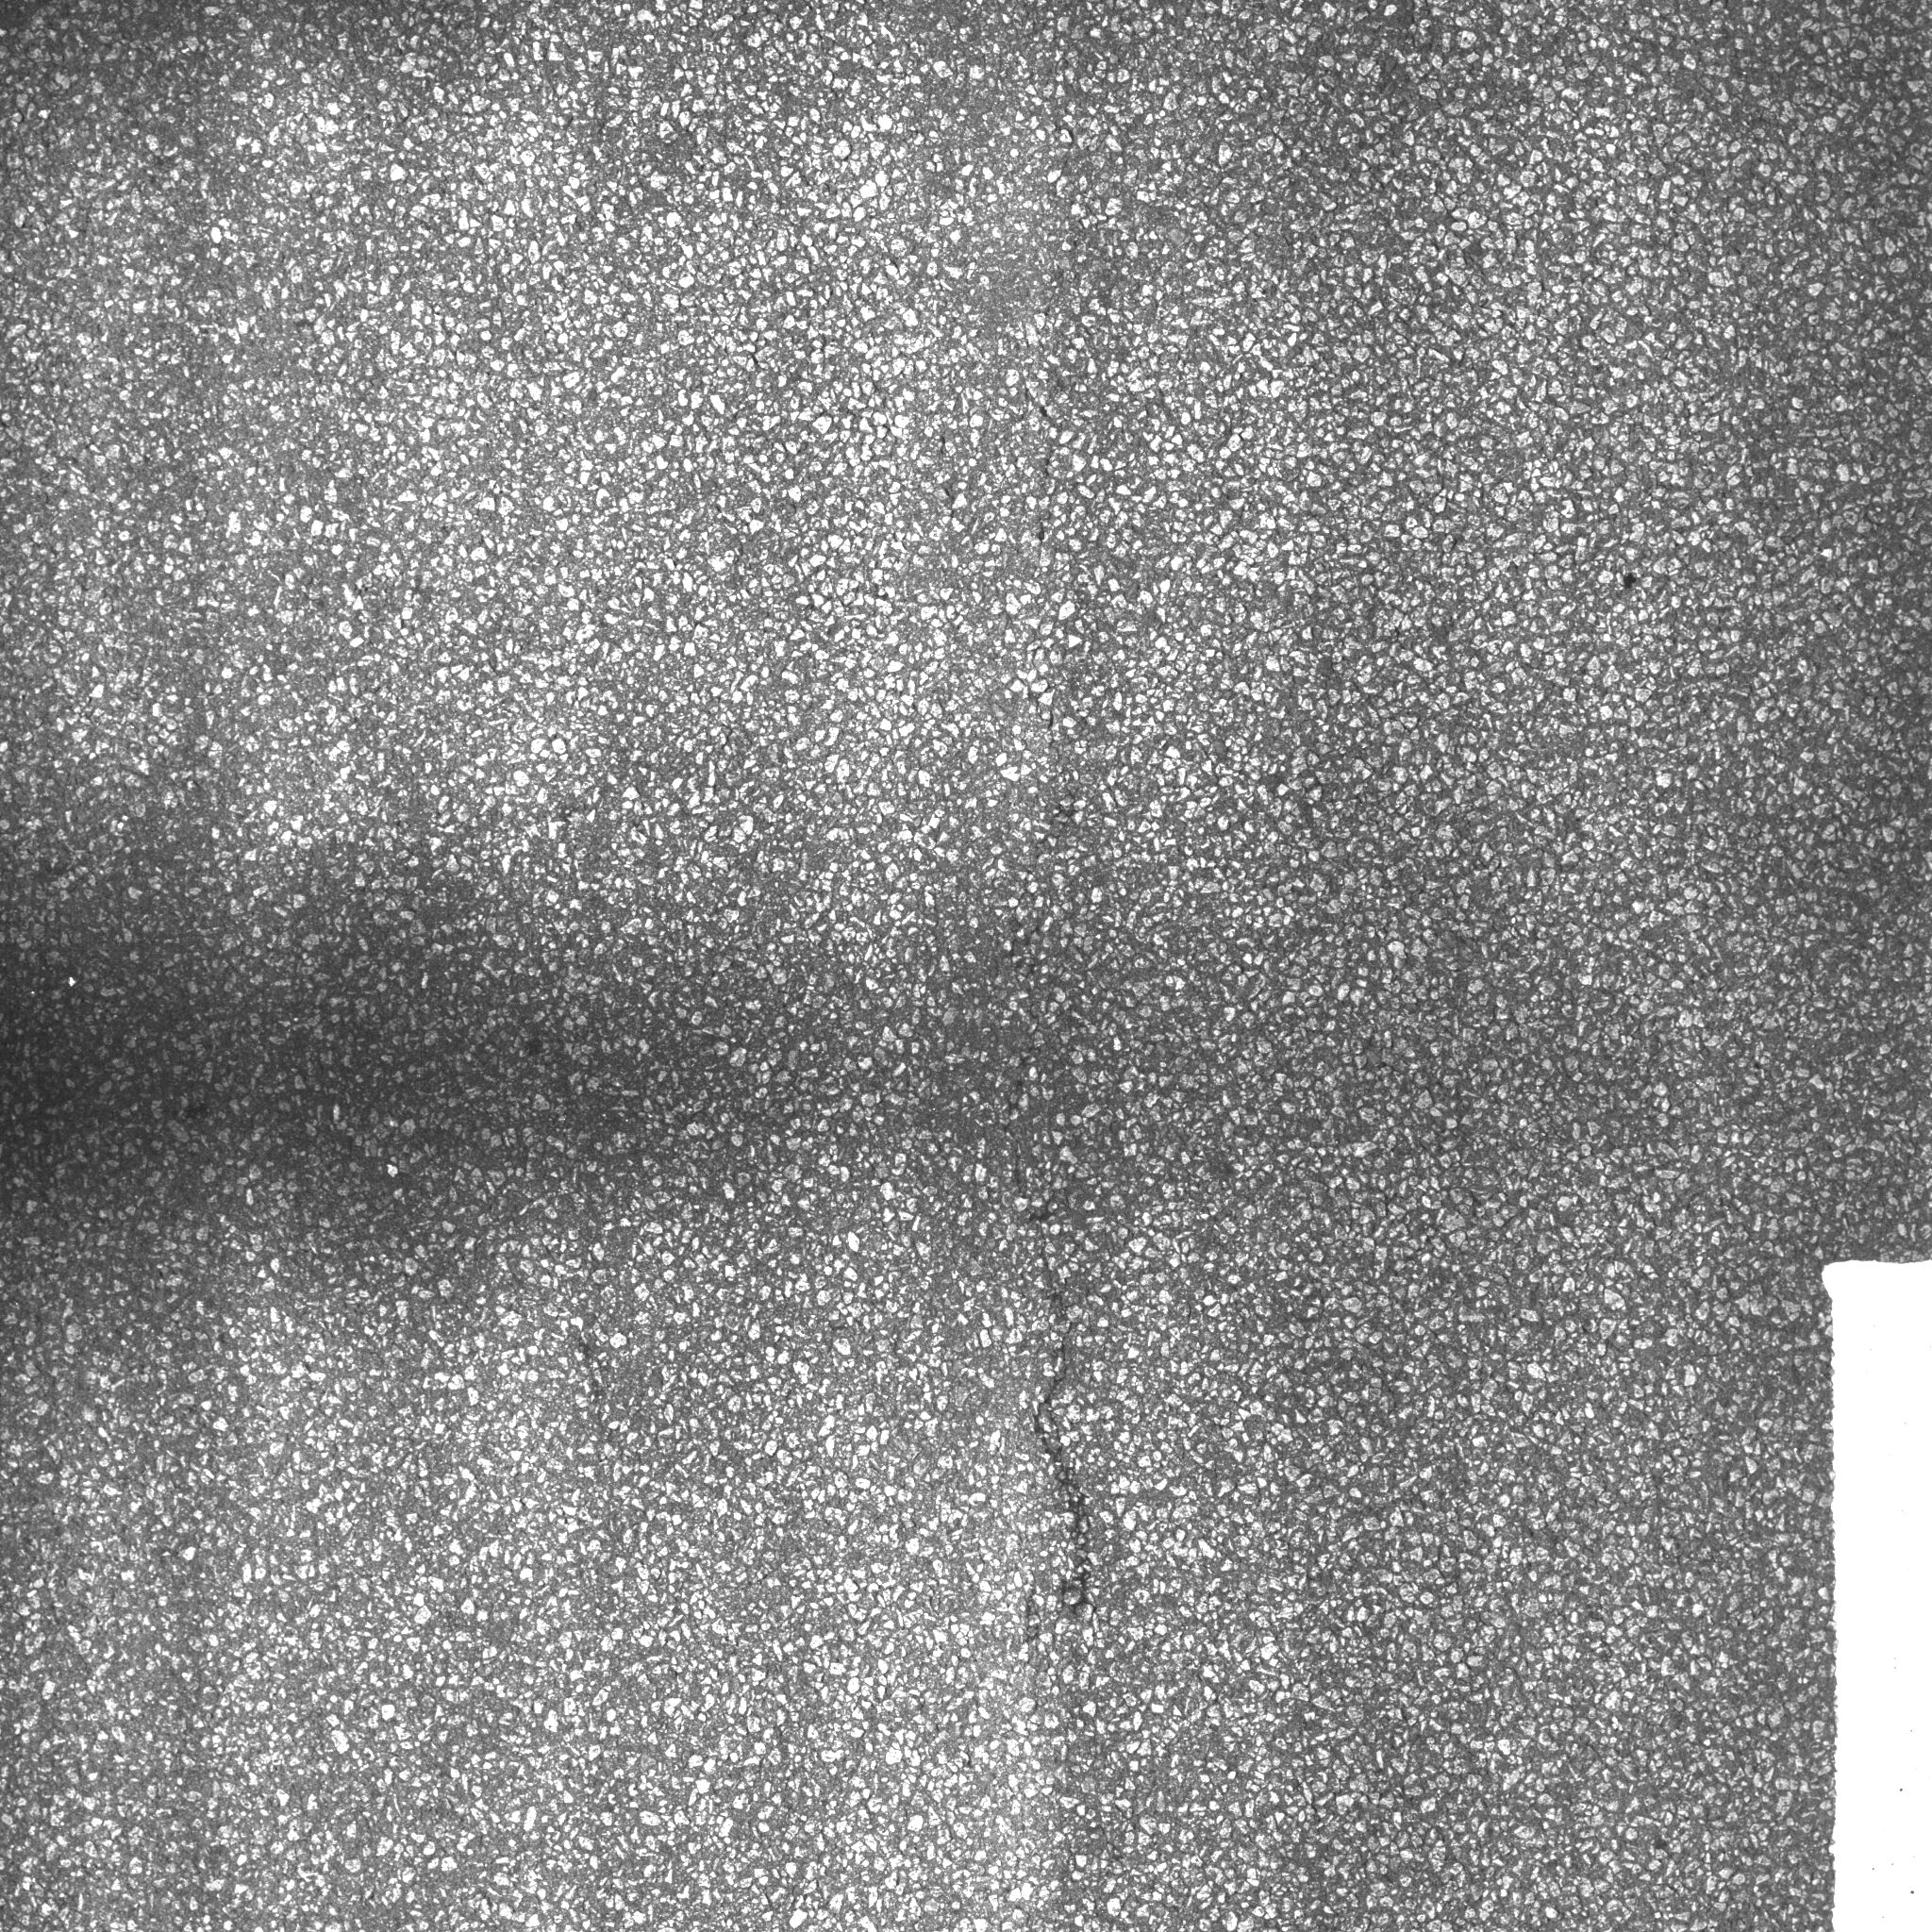longitudinal: (982, 977, 1210, 1845)
